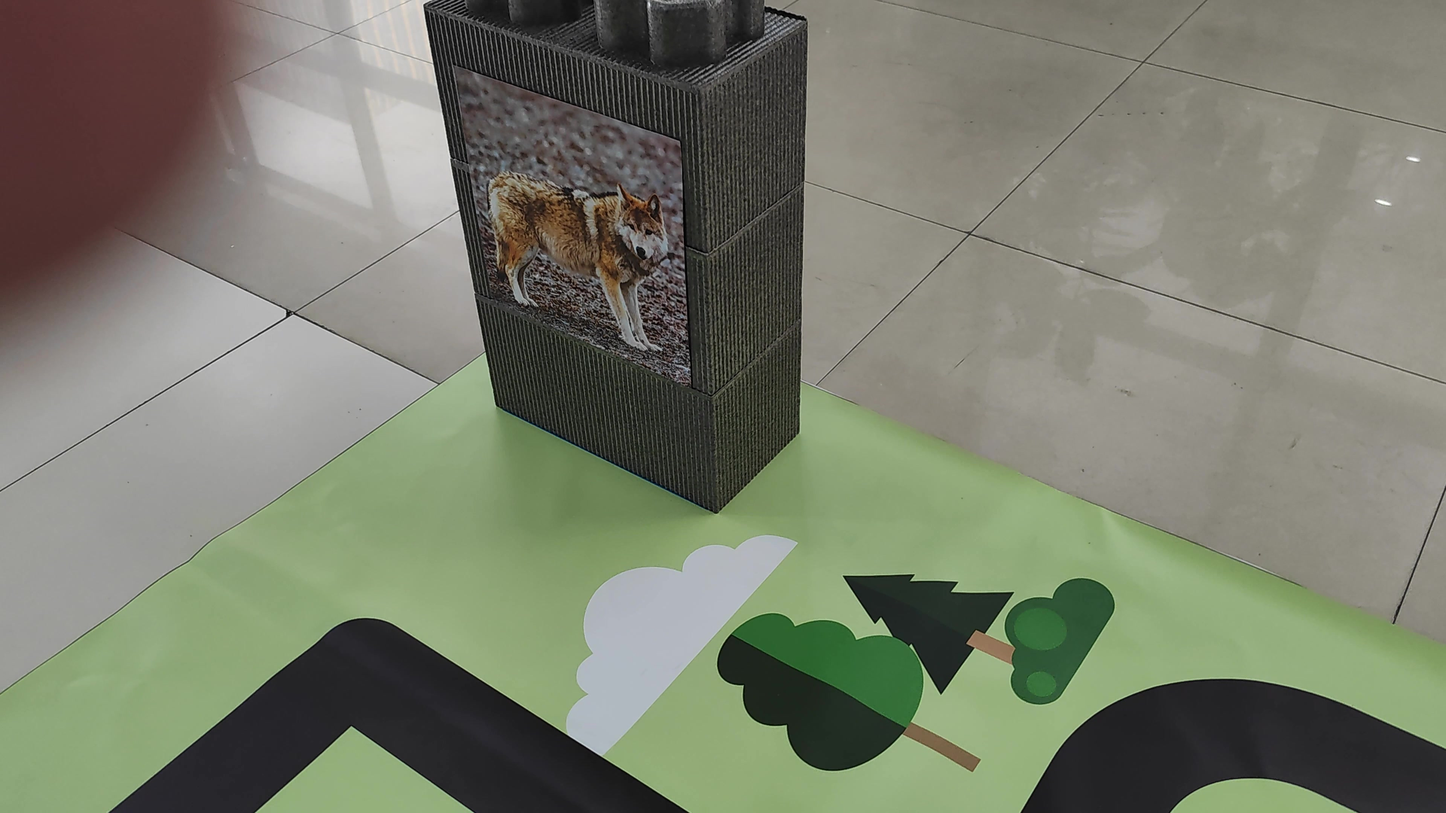wolf: (470, 137, 682, 361)
